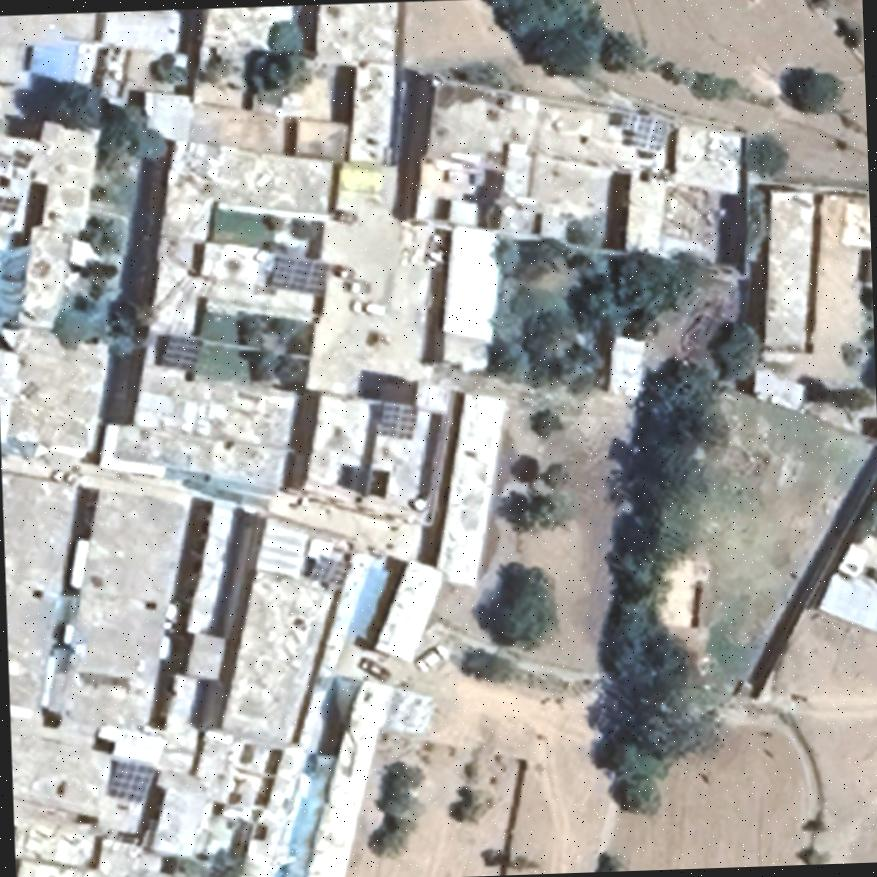Solarpanel: (102, 755, 159, 805), (268, 252, 331, 296), (376, 397, 420, 440), (158, 331, 204, 371)
